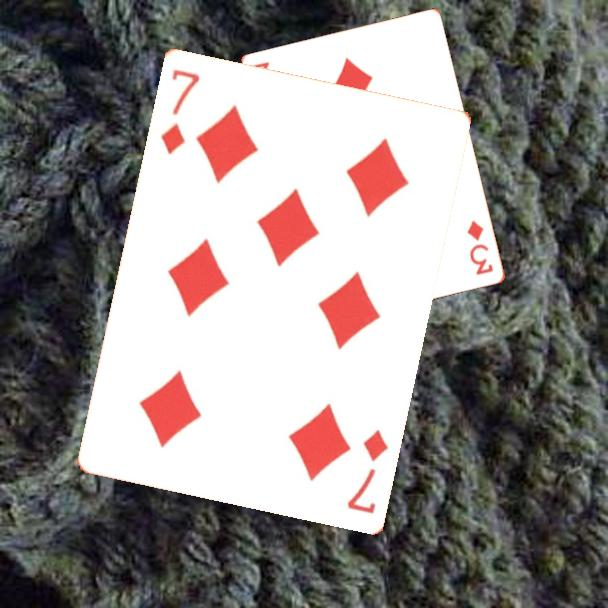d03: (464, 217, 496, 278)
d07: (343, 425, 391, 516), (156, 65, 202, 156)
